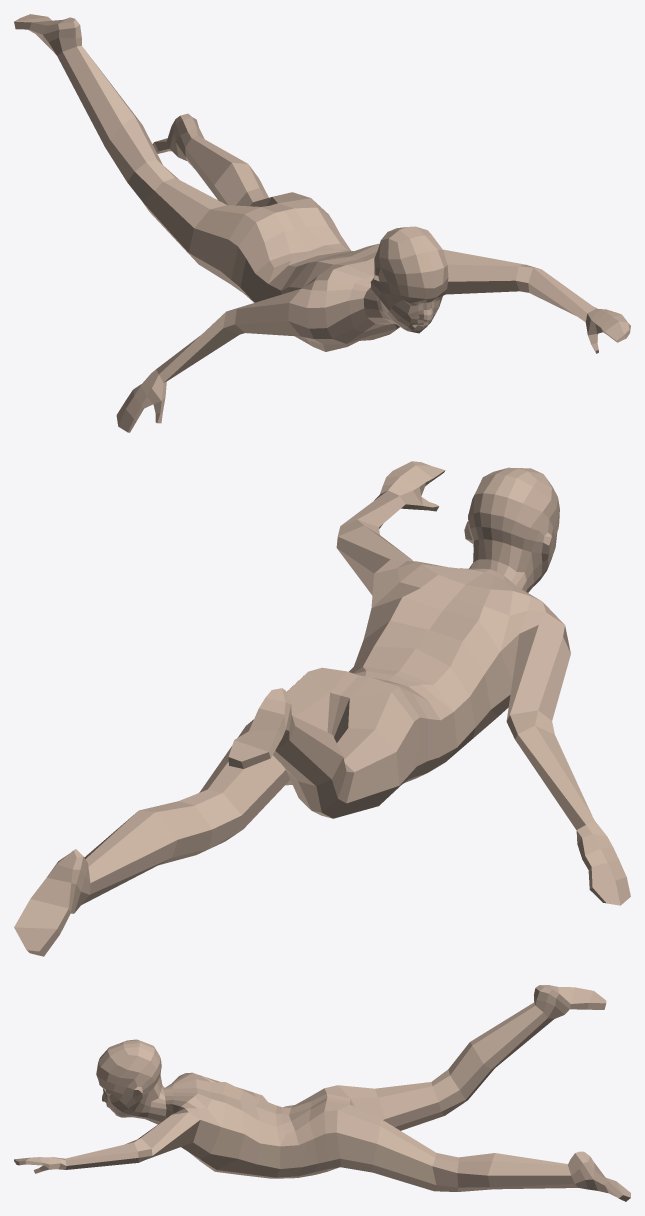
File: swimming.gltf
3 renders of one model, top to bottom at view 1: azimuth 30°, elevation 25°; view 2: azimuth 150°, elevation 25°; view 3: azimuth 270°, elevation 25°, orthographic. The views are drawn at different scales.
Visible parts, largest first — view 1: KidSwimming; view 2: KidSwimming; view 3: KidSwimming.
Boxes of the visible parts, left/top/right/bottom form: KidSwimming: left=14, top=14, right=630, bottom=432; KidSwimming: left=14, top=461, right=630, bottom=956; KidSwimming: left=14, top=985, right=630, bottom=1201.
Bounding box in the file's own units: 0.9759 × 0.7101 × 1.94.
